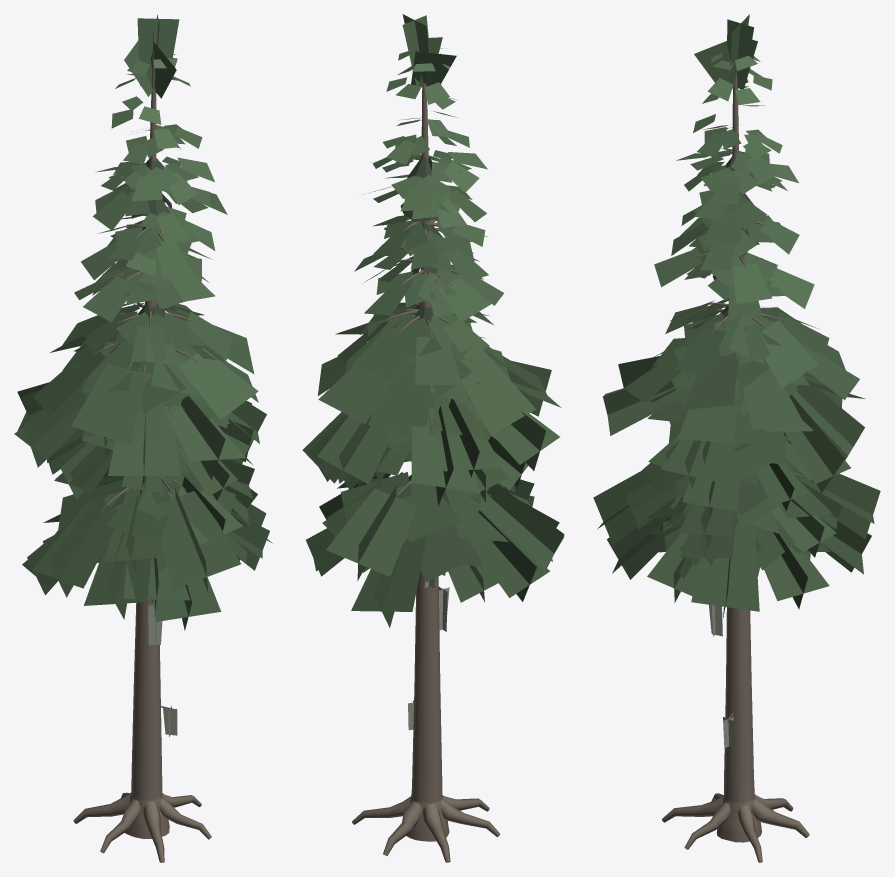
File: fir_tall_moss.glb
3 views of the same model, side by side, from view 1: azimuth 30°, elevation 25°; view 2: azimuth 150°, elevation 25°; view 3: azimuth 270°, elevation 25° (orthographic).
Parts seen in each view (by area): view 1: fir_tall_moss; view 2: fir_tall_moss; view 3: fir_tall_moss.
Part boxes in pixels (x1=…): fir_tall_moss: x1=14, y1=15, x2=272, y2=862; fir_tall_moss: x1=302, y1=14, x2=564, y2=862; fir_tall_moss: x1=593, y1=14, x2=880, y2=862.
Bounding box in the file's own units: 7.59 × 25.03 × 7.97.
